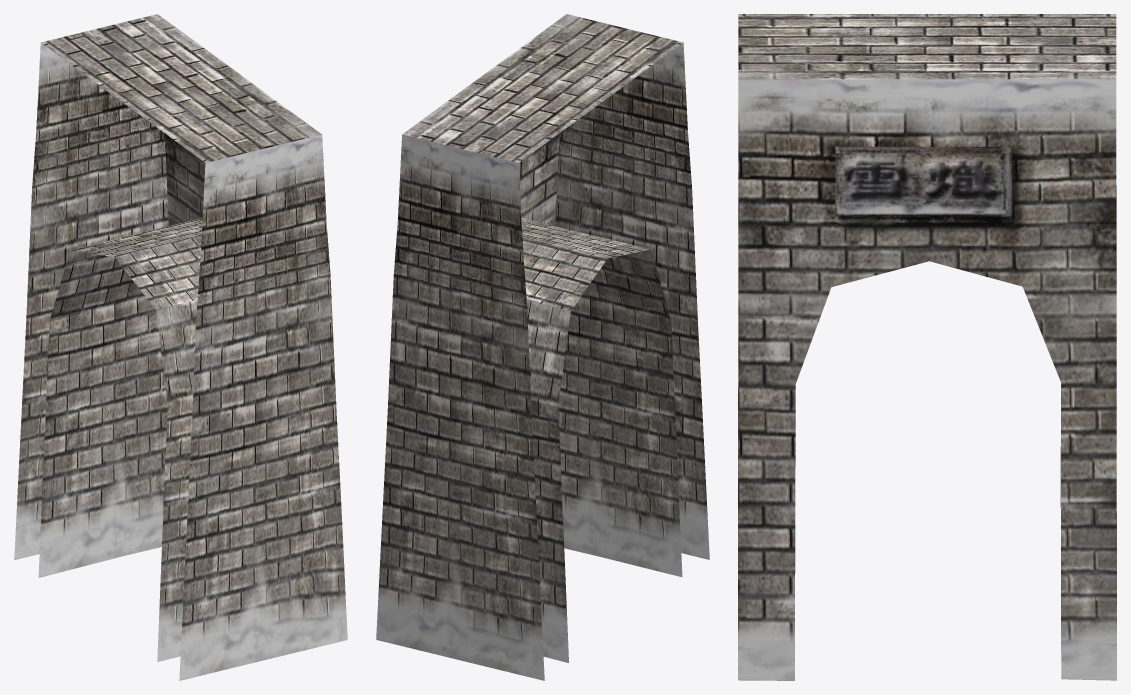
3 views of the same model, side by side, from view 1: azimuth 30°, elevation 25°; view 2: azimuth 150°, elevation 25°; view 3: azimuth 270°, elevation 25° (orthographic). The views are drawn at different scales.
Parts seen in each view (by area): view 1: Box53; view 2: Box53; view 3: Box53.
Boxes of the visible parts, <box> form: Box53: <box>14,14,347,680</box>; Box53: <box>376,14,709,680</box>; Box53: <box>738,14,1116,680</box>.
Bounding box in the file's own units: 139 × 400 × 234.
